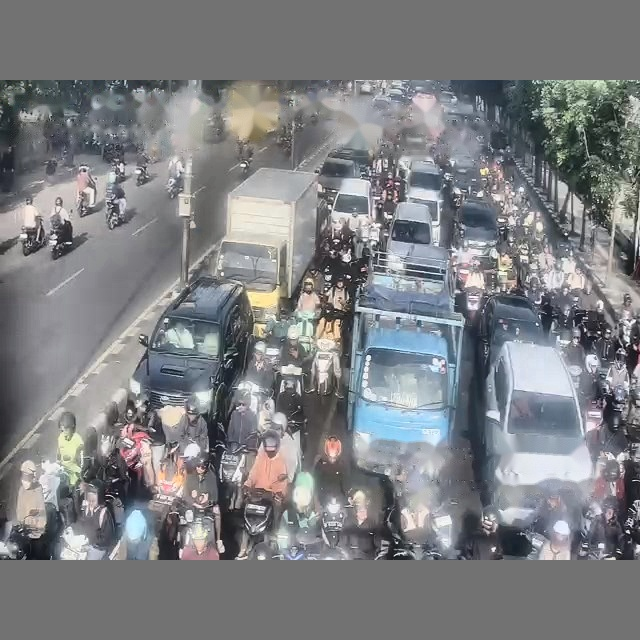Mobil: (478, 341, 593, 527), (129, 275, 253, 424), (476, 293, 547, 375), (406, 161, 443, 244), (386, 202, 431, 262), (454, 199, 498, 258), (317, 157, 359, 201), (331, 179, 372, 221), (398, 152, 435, 173), (401, 121, 429, 148), (387, 88, 410, 109), (372, 94, 391, 112), (438, 91, 457, 104), (359, 80, 374, 94)
Motor: (218, 443, 247, 510), (313, 337, 338, 395), (48, 226, 72, 259), (19, 227, 46, 256), (106, 196, 124, 229), (166, 177, 182, 198), (135, 166, 148, 185)
Truk: (347, 245, 464, 474), (213, 168, 328, 336)
